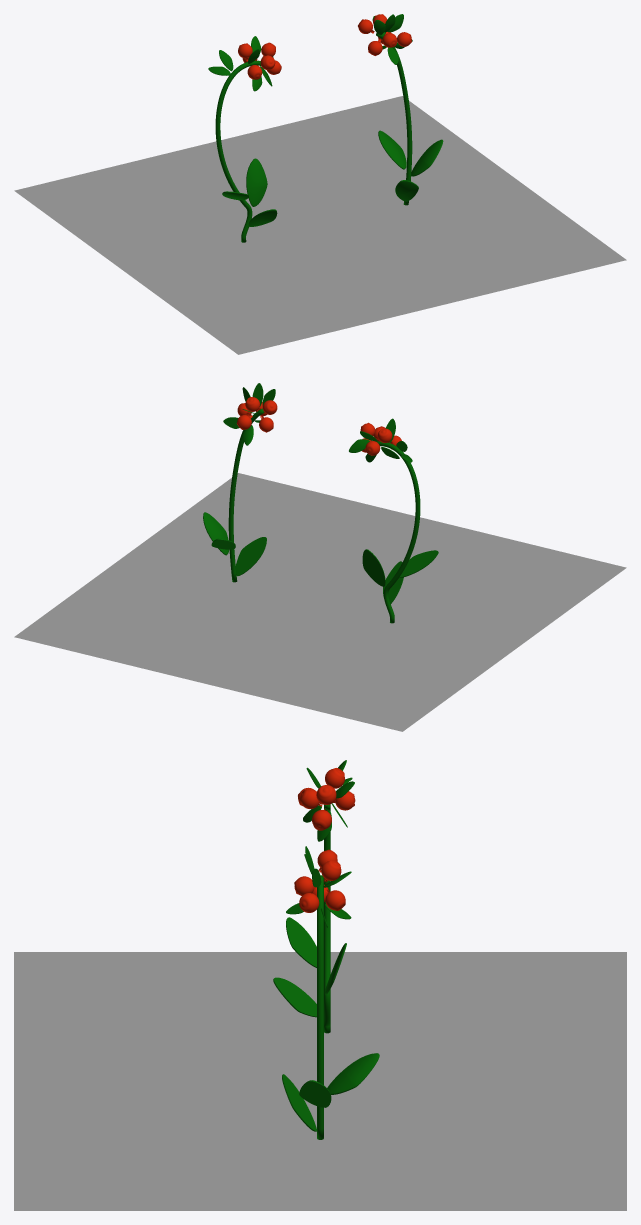
Rendered from lingon.glb.
3 renders of one model, top to bottom at view 1: azimuth 30°, elevation 25°; view 2: azimuth 150°, elevation 25°; view 3: azimuth 270°, elevation 25°, orthographic. The views are drawn at different scales.
Parts seen in each view (by area): view 1: Plane, Lingon rör vänster, Lingon löv.S.3, Lingonkvist höger, Lingon löv.002, Lingon löv.001; view 2: Plane, Lingon rör vänster, Lingonkvist höger, Lingon löv, Lingon löv.S.3, Lingon löv.S.1; view 3: Plane, Lingonkvist höger, Lingon löv.002, Lingon rör vänster, Lingon löv.S.1, Lingon löv.S.6, Lingon löv, Lingon löv.001.
Boxes of the visible parts, x1,y1,x2,y2 form: Plane: [14, 96, 626, 354]; Lingon rör vänster: [215, 60, 260, 242]; Lingon löv.S.3: [246, 158, 267, 206]; Lingonkvist höger: [376, 33, 412, 205]; Lingon löv.002: [378, 130, 406, 169]; Lingon löv.001: [411, 139, 443, 176]; Plane: [14, 473, 626, 731]; Lingon rör vänster: [376, 441, 420, 623]; Lingonkvist höger: [228, 408, 264, 582]; Lingon löv: [235, 537, 266, 576]; Lingon löv.S.3: [362, 549, 385, 586]; Lingon löv.S.1: [399, 550, 438, 577]; Plane: [14, 952, 626, 1210]; Lingonkvist höger: [317, 875, 323, 1139]; Lingon löv.002: [327, 1053, 379, 1094]; Lingon rör vänster: [324, 804, 330, 1033]; Lingon löv.S.1: [286, 917, 316, 967]; Lingon löv.S.6: [273, 977, 316, 1017]; Lingon löv: [282, 1074, 316, 1131]; Lingon löv.001: [299, 1080, 331, 1107].
Bounding box in the file's own units: 18.25 × 8.94 × 18.25.
